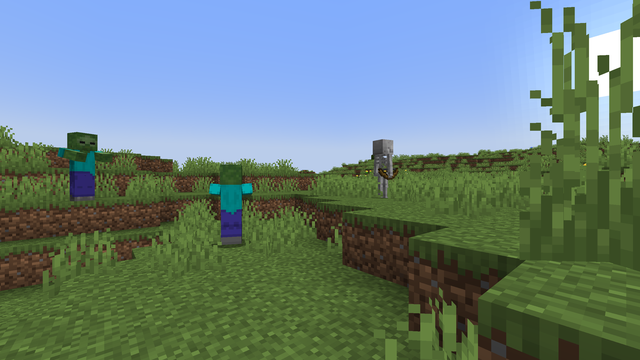squelettes: (370, 139, 394, 198)
zombies: (215, 166, 247, 247), (67, 133, 95, 201)
